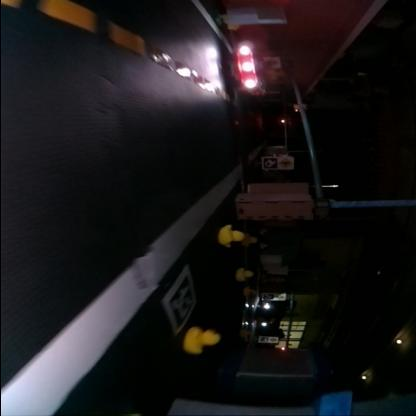Duckie: (185, 326, 219, 350), (218, 226, 244, 244), (235, 270, 254, 281), (241, 233, 257, 246), (266, 69, 283, 79), (242, 286, 257, 296), (258, 242, 266, 248), (258, 228, 266, 234)
Duckiebot: (232, 45, 266, 93)
Intersection sign: (278, 158, 292, 168)
QR code: (163, 266, 194, 326), (263, 156, 277, 168), (263, 294, 273, 300), (259, 336, 269, 342)
Signal sign: (275, 294, 283, 300)
